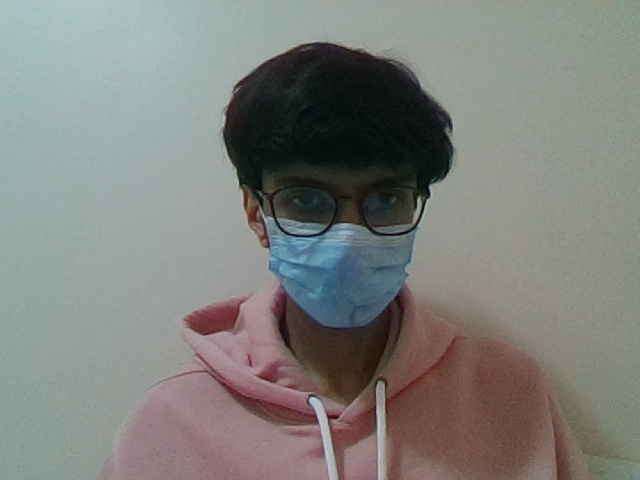Face_mask_found: (242, 208, 466, 337)
